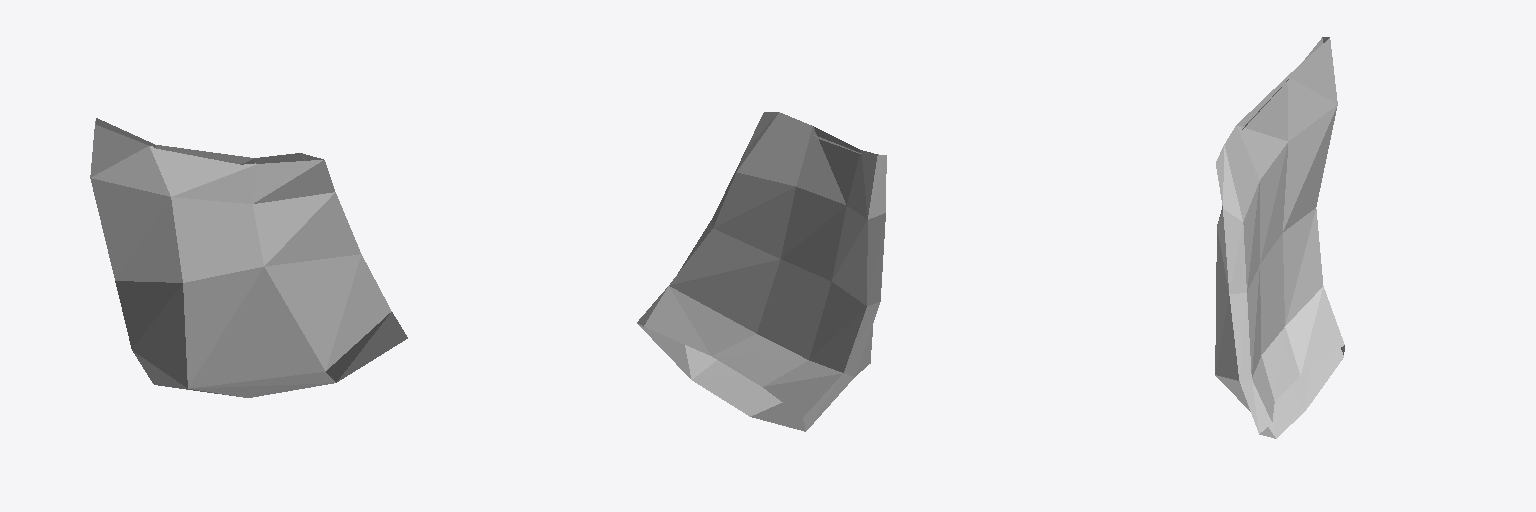
The model's file is Mentalis_Muscle_Right.obj.
3 views of the same model, side by side, from view 1: azimuth 30°, elevation 25°; view 2: azimuth 150°, elevation 25°; view 3: azimuth 270°, elevation 25° (orthographic).
Parts seen in each view (by area): view 1: Mentalis_Muscle_Right_Mesh group1; view 2: Mentalis_Muscle_Right_Mesh group1; view 3: Mentalis_Muscle_Right_Mesh group1.
Boxes of the visible parts, x1,y1,x2,y2 form: Mentalis_Muscle_Right_Mesh group1: [90, 118, 407, 397]; Mentalis_Muscle_Right_Mesh group1: [637, 112, 886, 431]; Mentalis_Muscle_Right_Mesh group1: [1215, 37, 1344, 438].
Bounding box in the file's own units: 0.328 × 0.3376 × 0.1298.